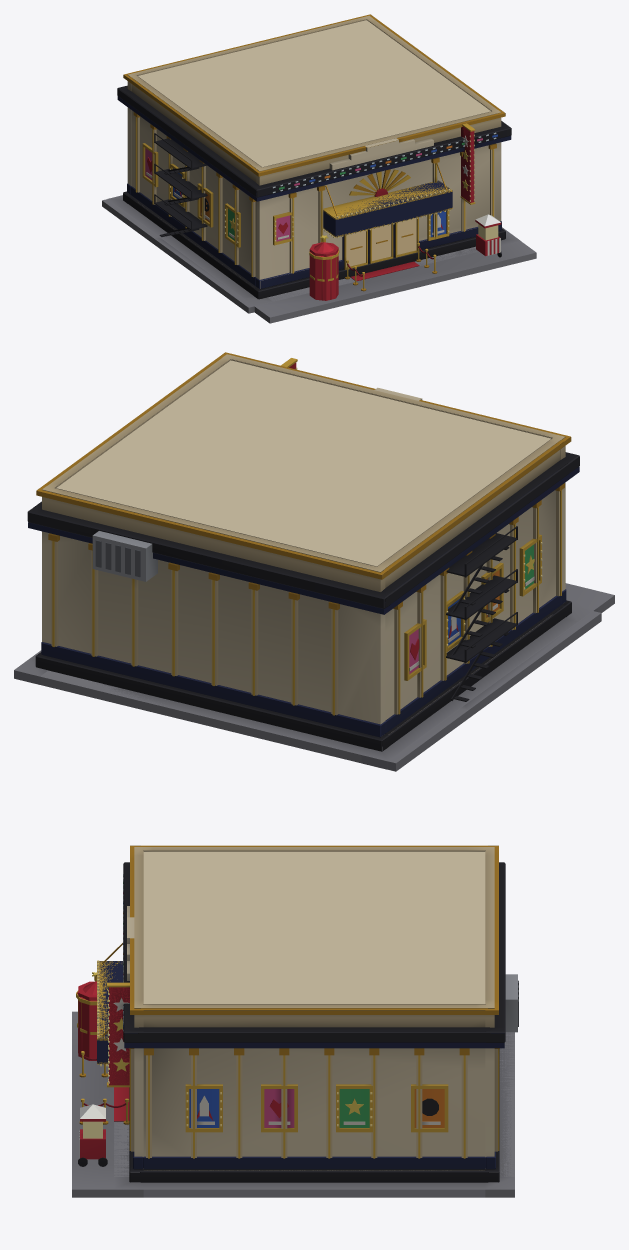
File: RunawayTicketFloor.fbx
The picture shows the model from 3 angles, top to bottom: view 1: azimuth 30°, elevation 25°; view 2: azimuth 150°, elevation 25°; view 3: azimuth 270°, elevation 25°; orthographic projection. The views are drawn at different scales.
Visible parts, largest first — view 1: CN_S_All, CN_F_Rings, CN_F_Smooth, CN_F_Quiet, CN_F_Glass, CN_F_Props; view 2: CN_F_Rings, CN_S_All, CN_F_Smooth, CN_F_Quiet, CN_F_Props; view 3: CN_S_All, CN_F_Rings, CN_F_Smooth, CN_F_Quiet, CN_F_Props, CN_F_Glass.
Part boxes in pixels (left/top/right/bottom): CN_S_All: left=119, top=20, right=520, bottom=311; CN_F_Rings: left=117, top=14, right=511, bottom=298; CN_F_Smooth: left=102, top=74, right=536, bottom=323; CN_F_Quiet: left=102, top=195, right=535, bottom=317; CN_F_Glass: left=169, top=132, right=498, bottom=267; CN_F_Props: left=310, top=214, right=500, bottom=300; CN_F_Rings: left=27, top=352, right=579, bottom=751; CN_S_All: left=14, top=360, right=592, bottom=769; CN_F_Smooth: left=14, top=353, right=614, bottom=771; CN_F_Quiet: left=14, top=583, right=614, bottom=763; CN_F_Props: left=92, top=531, right=157, bottom=581; CN_S_All: left=78, top=851, right=514, bottom=1197; CN_F_Rings: left=109, top=845, right=504, bottom=1182; CN_F_Smooth: left=72, top=845, right=518, bottom=1197; CN_F_Quiet: left=72, top=1011, right=514, bottom=1189; CN_F_Props: left=77, top=974, right=517, bottom=1159; CN_F_Glass: left=83, top=874, right=372, bottom=1138.
Bounding box in the file's own units: 60 × 20 × 60.
